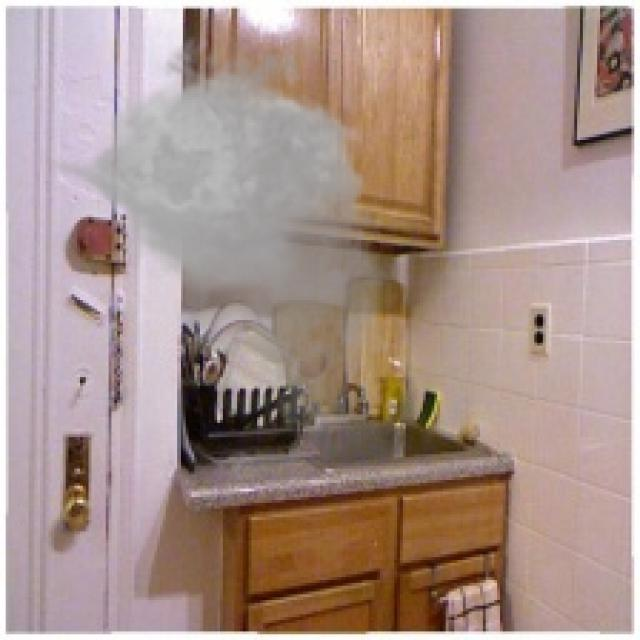smoke: (40, 23, 403, 440)
